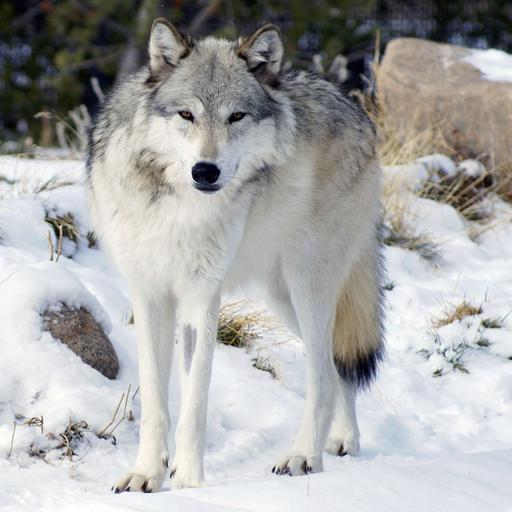Wolf: (86, 20, 388, 496)
